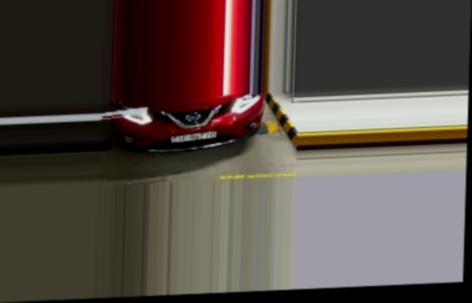License_Plate: (170, 129, 217, 144)
